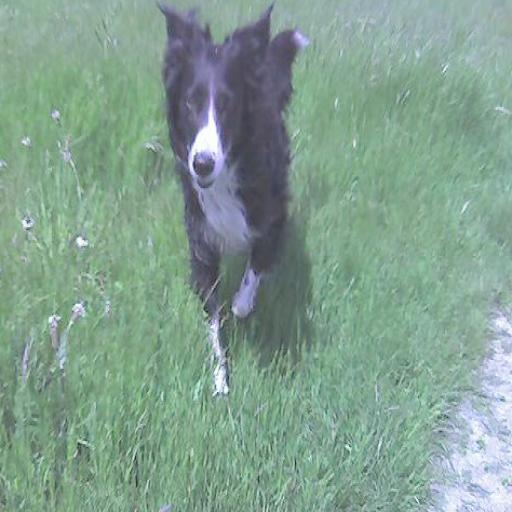dog_face: (156, 11, 289, 191)
